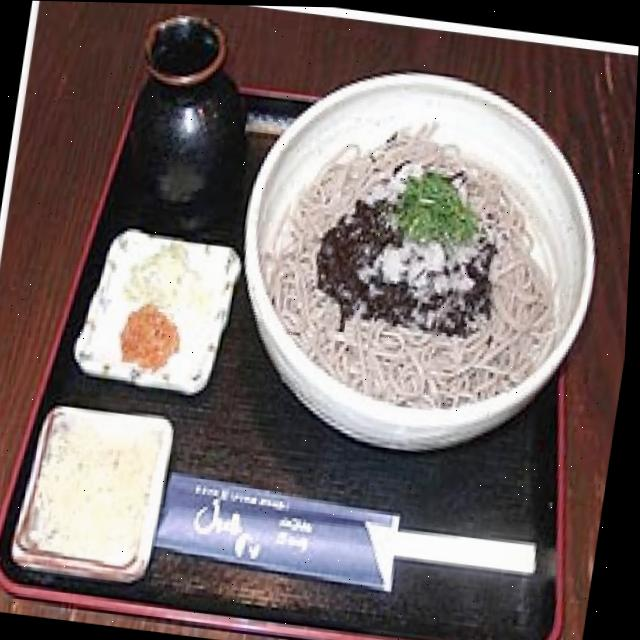面条主食: (207, 39, 629, 474)
